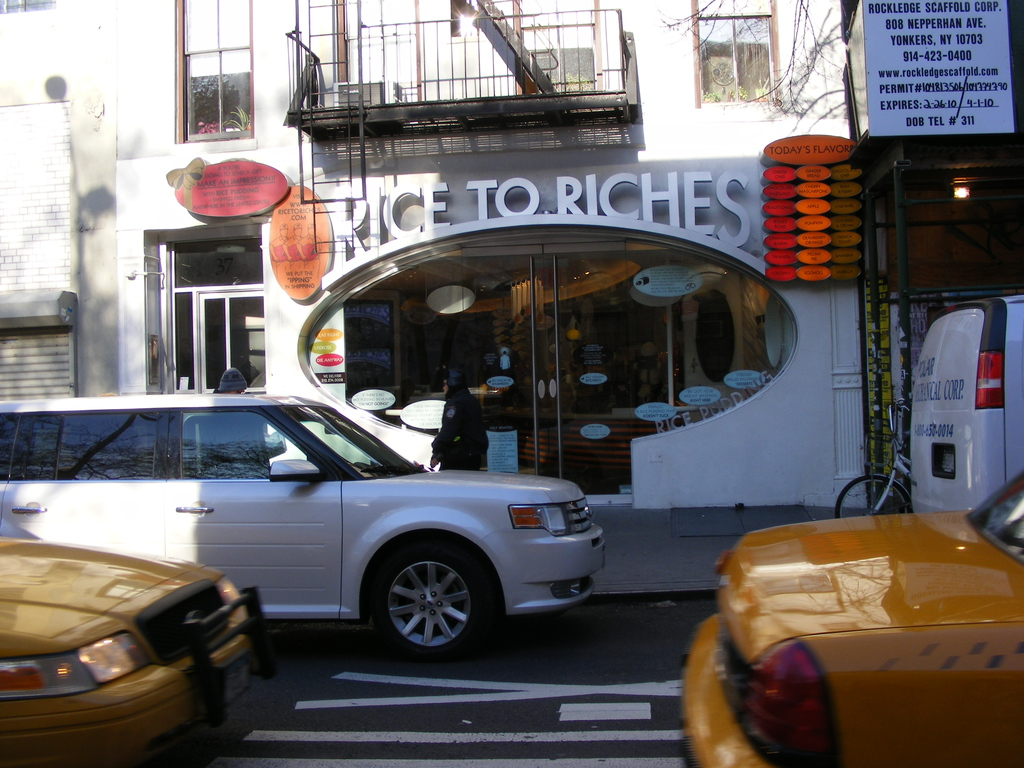Wheel: (359, 563, 481, 650), (833, 472, 913, 518)
